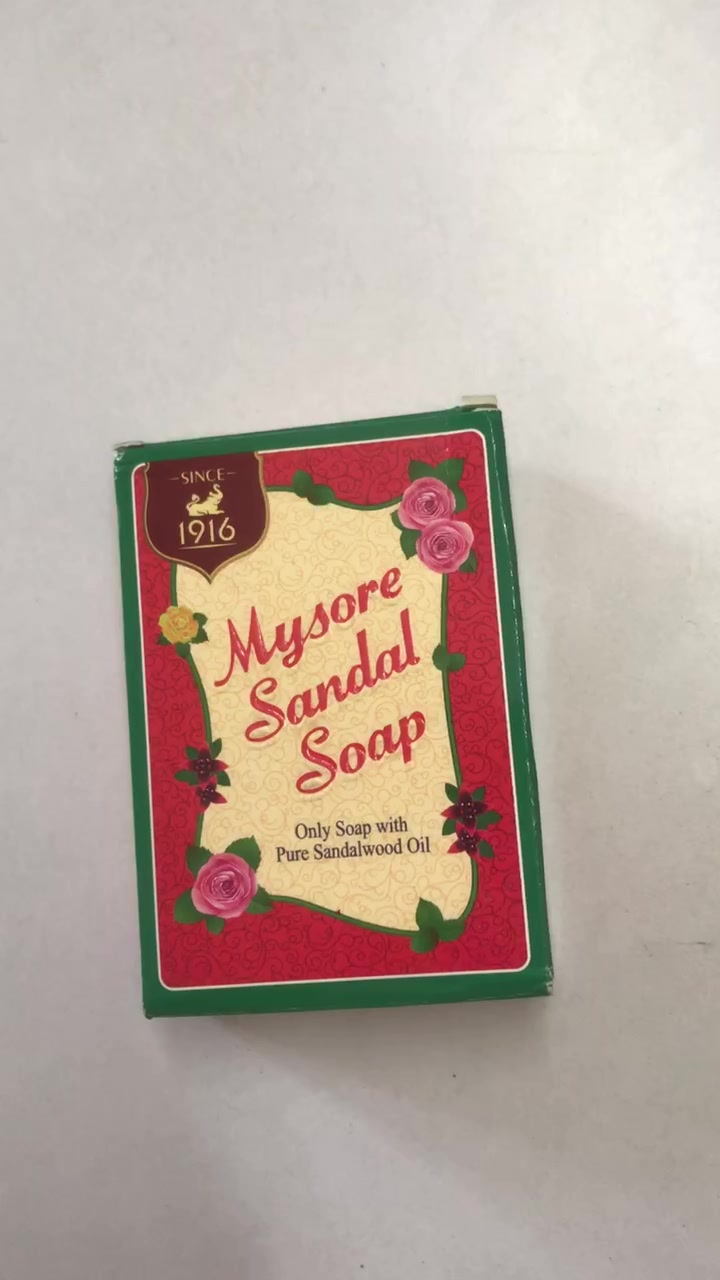mysore sandal soap: (113, 409, 545, 1020)
